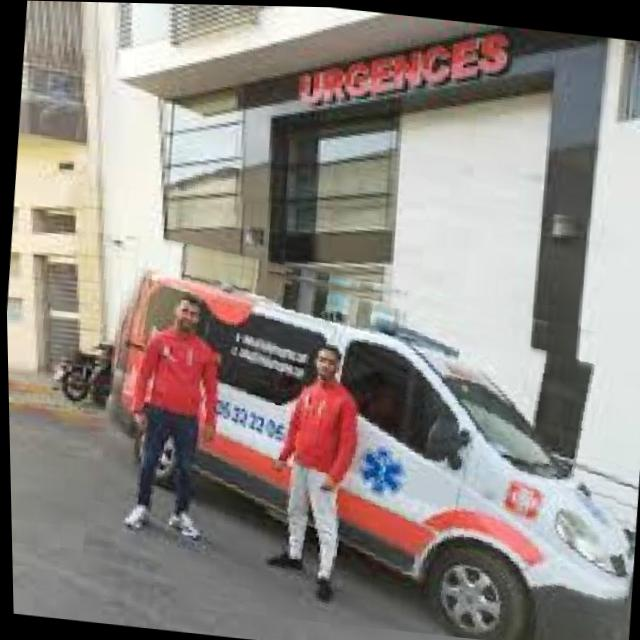ambulance: (77, 241, 640, 640)
